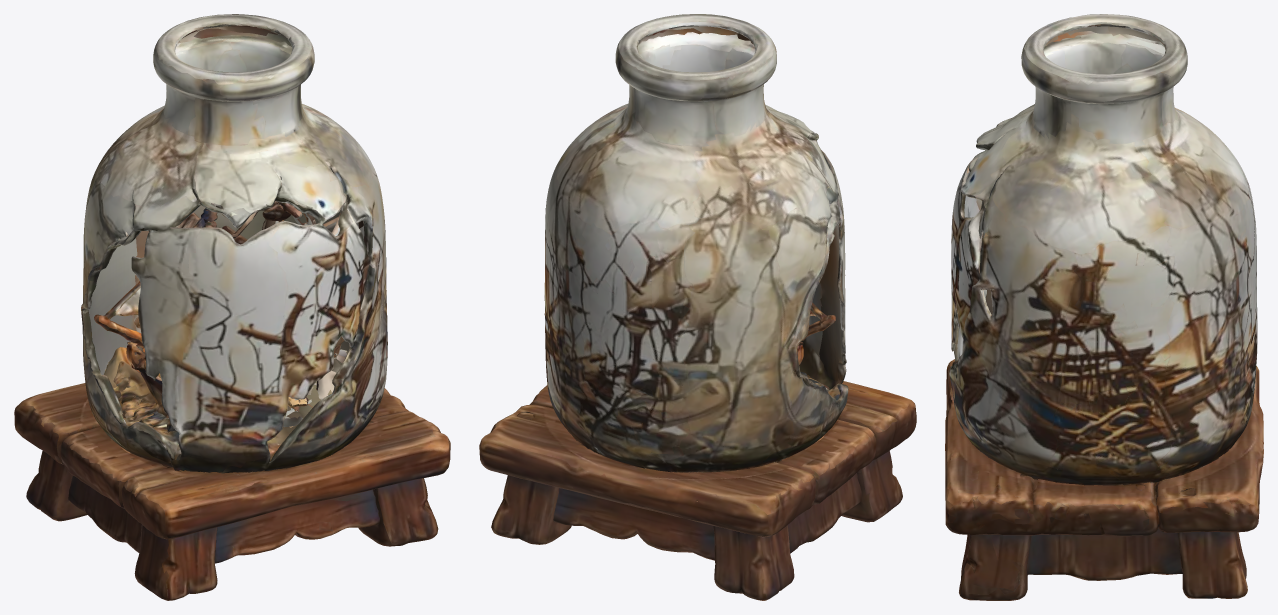
File: shipbottle-broken.glb
3 views of the same model, side by side, from view 1: azimuth 30°, elevation 25°; view 2: azimuth 150°, elevation 25°; view 3: azimuth 270°, elevation 25° (orthographic). The views are drawn at different scales.
Parts seen in each view (by area): view 1: geometry_0; view 2: geometry_0; view 3: geometry_0.
Part boxes in pixels (x1,y1,x2,y2): geometry_0: (14,14,450,600); geometry_0: (479,14,916,600); geometry_0: (945,14,1263,600).
Bounding box in the file's own units: 0.2107 × 0.32 × 0.1885.
1 material, 1 textured.
